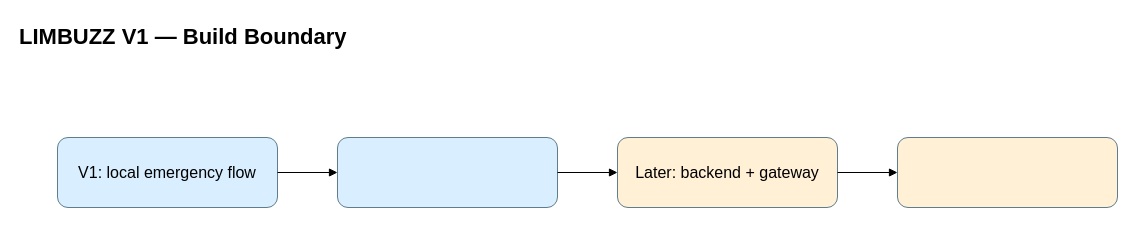
Image size: 1135x225. Some labels were removed from this diagram. The shapes that lost their labels are listed below. From the top down, each one's centre as x and y in pixels, then its label:
At point 447,172: "V1: foreground service".
At point 1007,172: "Later: push + social".
